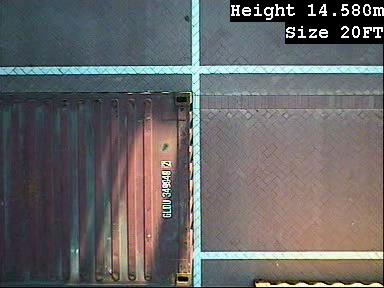groundmarker_2: (27, 92, 114, 138)
